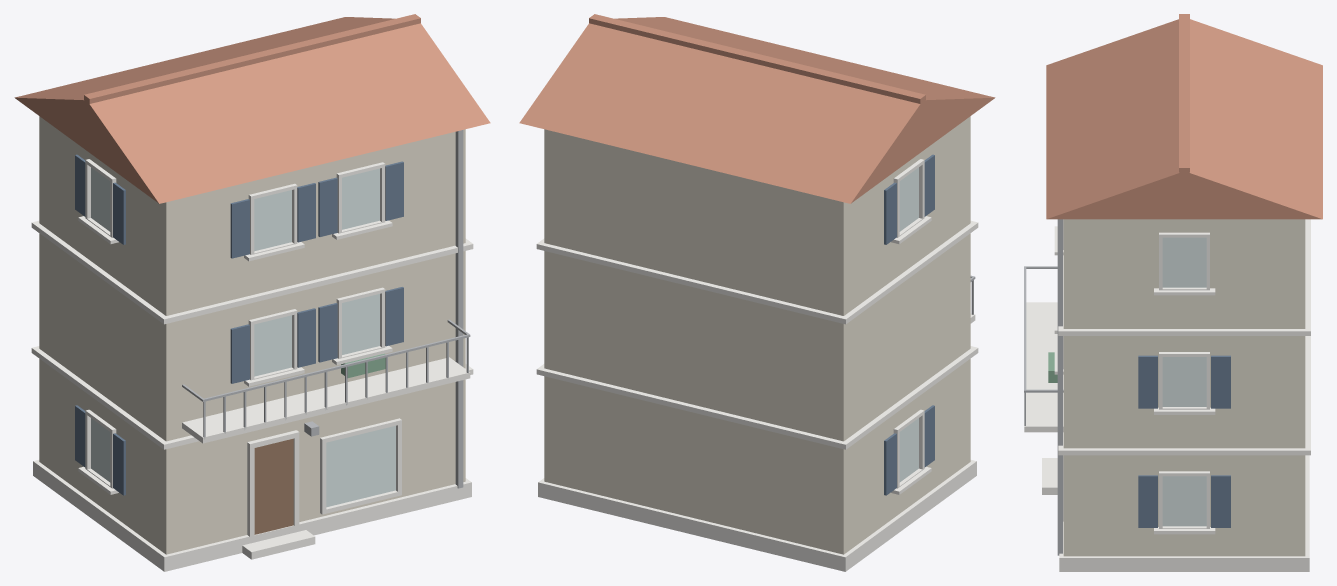
File: harbor_0.glb
3 views of the same model, side by side, from view 1: azimuth 30°, elevation 25°; view 2: azimuth 150°, elevation 25°; view 3: azimuth 270°, elevation 25° (orthographic). The views are drawn at different scales.
Visible parts, largest first — view 1: Bld_harbor_0; view 2: Bld_harbor_0; view 3: Bld_harbor_0.
Part boxes in pixels (<box>): Bld_harbor_0: <box>14,14,490,571</box>; Bld_harbor_0: <box>519,14,995,571</box>; Bld_harbor_0: <box>1024,14,1322,571</box>.
Bounding box in the file's own units: 8.3 × 10.29 × 6.8.
